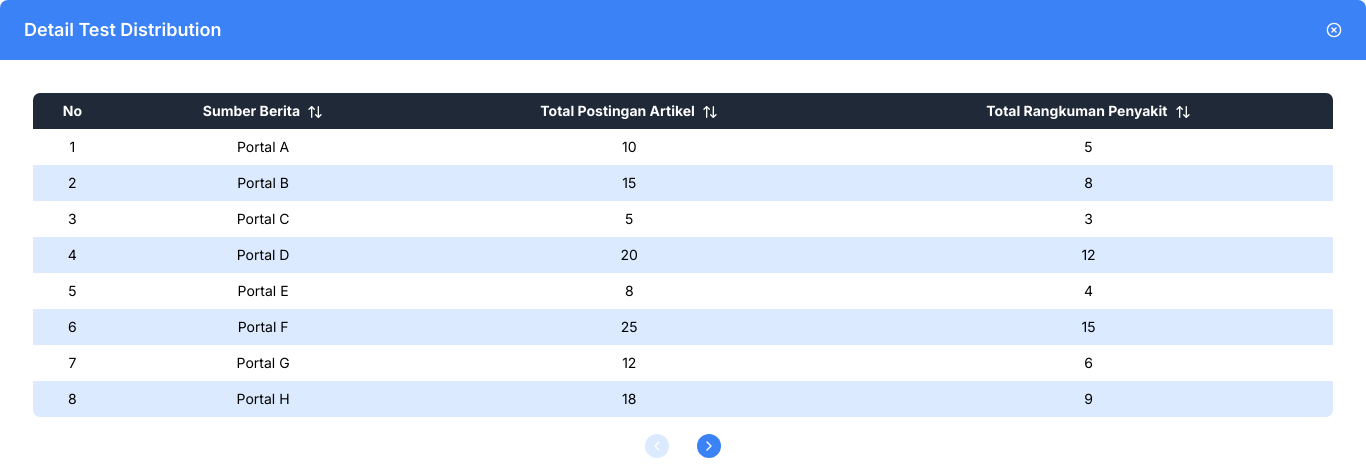
DetailDistribution Component › Sorting › sorts by news_count when that header is clicked
The image size is (1366, 475).
# Click on news_count header to sort
What coordinates should you click on to do the following:
click the column heading "Total Postingan Artikel"
I would click on:
 (629, 111)
Its box is [414,92,844,129].
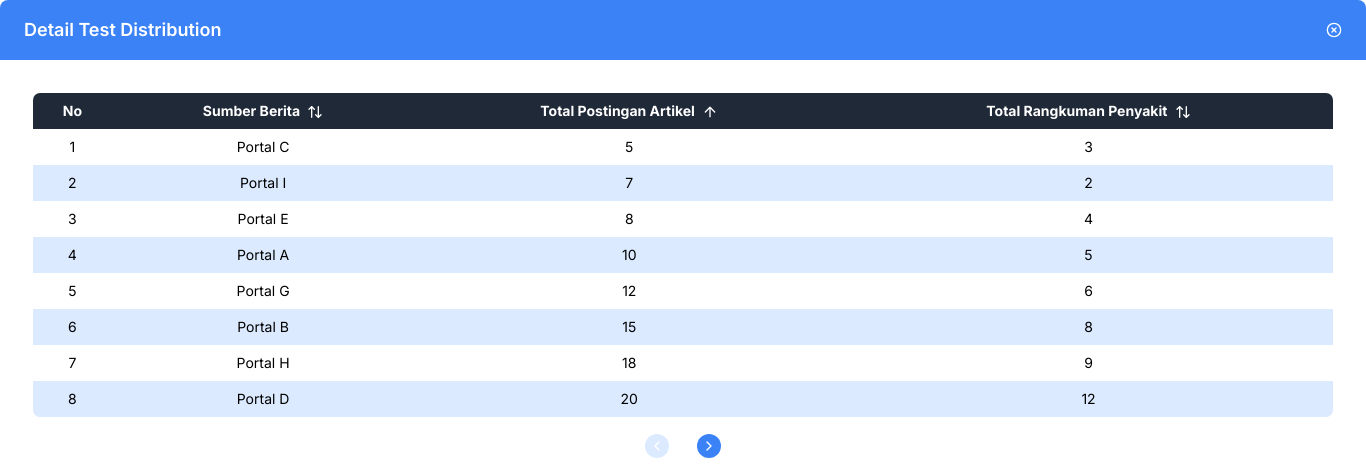
Check: the row "1 Portal C 5 3" is shown, box [32,129,1334,165]
